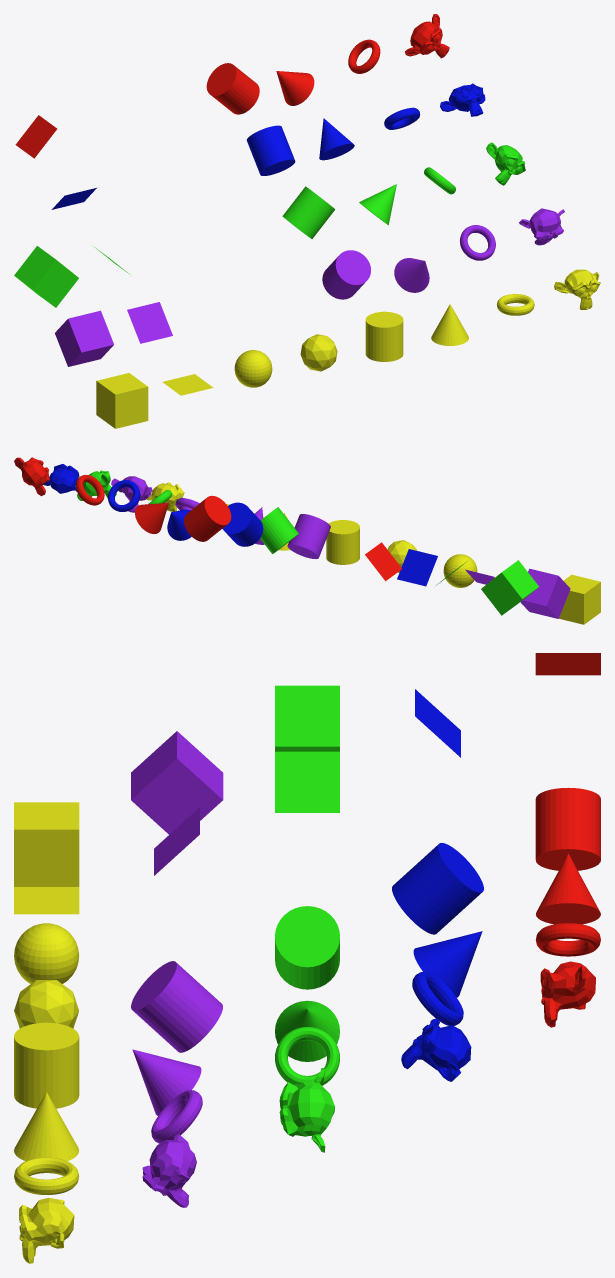
File: shapes.gltf
3 renders of one model, top to bottom at view 1: azimuth 30°, elevation 25°; view 2: azimuth 150°, elevation 25°; view 3: azimuth 270°, elevation 25°, orthographic. The views are drawn at different scales.
Visible parts, largest first — view 1: Cube, Cube.001, Cube.002, Cylinder.003, Cylinder, Cylinder.001, Cylinder.004, Cylinder.002, Plane.001, Sphere, Suzanne.004, Icosphere (+15 smaller); view 2: Cube.002, Cube, Cube.001, Cylinder.003, Cylinder, Cylinder.001, Cylinder.004, Cylinder.002, Plane.003, Sphere, Suzanne.004, Cone.004 (+9 smaller); view 3: Cube.001, Cube, Cylinder, Cylinder.001, Cylinder.004, Cylinder.003, Cylinder.002, Cube.002, Plane.002, Sphere, Suzanne.002, Cone.004 (+18 smaller).
Boxes of the visible parts, x1,y1,x2,y2 form: Cube: [96, 373, 148, 428]; Cube.001: [55, 310, 113, 366]; Cube.002: [14, 246, 78, 307]; Cylinder.003: [206, 63, 259, 114]; Cylinder: [365, 311, 403, 361]; Cylinder.001: [322, 250, 370, 299]; Cylinder.004: [246, 125, 295, 175]; Cylinder.002: [282, 186, 334, 238]; Plane.001: [127, 302, 172, 343]; Sphere: [234, 350, 272, 387]; Suzanne.004: [405, 14, 449, 58]; Icosphere: [300, 334, 337, 371]; Cube.002: [481, 560, 538, 615]; Cube: [559, 574, 600, 624]; Cube.001: [520, 568, 570, 618]; Cylinder.003: [184, 495, 231, 541]; Cylinder: [326, 520, 359, 564]; Cylinder.001: [287, 514, 330, 558]; Cylinder.004: [222, 502, 263, 546]; Cylinder.002: [260, 507, 298, 553]; Plane.003: [397, 549, 437, 586]; Sphere: [443, 554, 477, 587]; Suzanne.004: [14, 457, 49, 496]; Cone.004: [135, 503, 168, 533]; Cube.001: [131, 731, 223, 834]; Cube: [14, 802, 79, 886]; Cylinder: [14, 1022, 79, 1108]; Cylinder.001: [131, 961, 222, 1052]; Cylinder.004: [392, 843, 483, 934]; Cylinder.003: [535, 787, 600, 870]; Cylinder.002: [275, 906, 339, 989]; Cube.002: [275, 685, 339, 751]; Plane.002: [275, 751, 339, 812]; Sphere: [14, 923, 79, 983]; Suzanne.002: [279, 1068, 335, 1152]; Cone.004: [536, 853, 600, 924].
Size of what is drawn, in the model's own units: 15.39 by 5.21 by 9.
